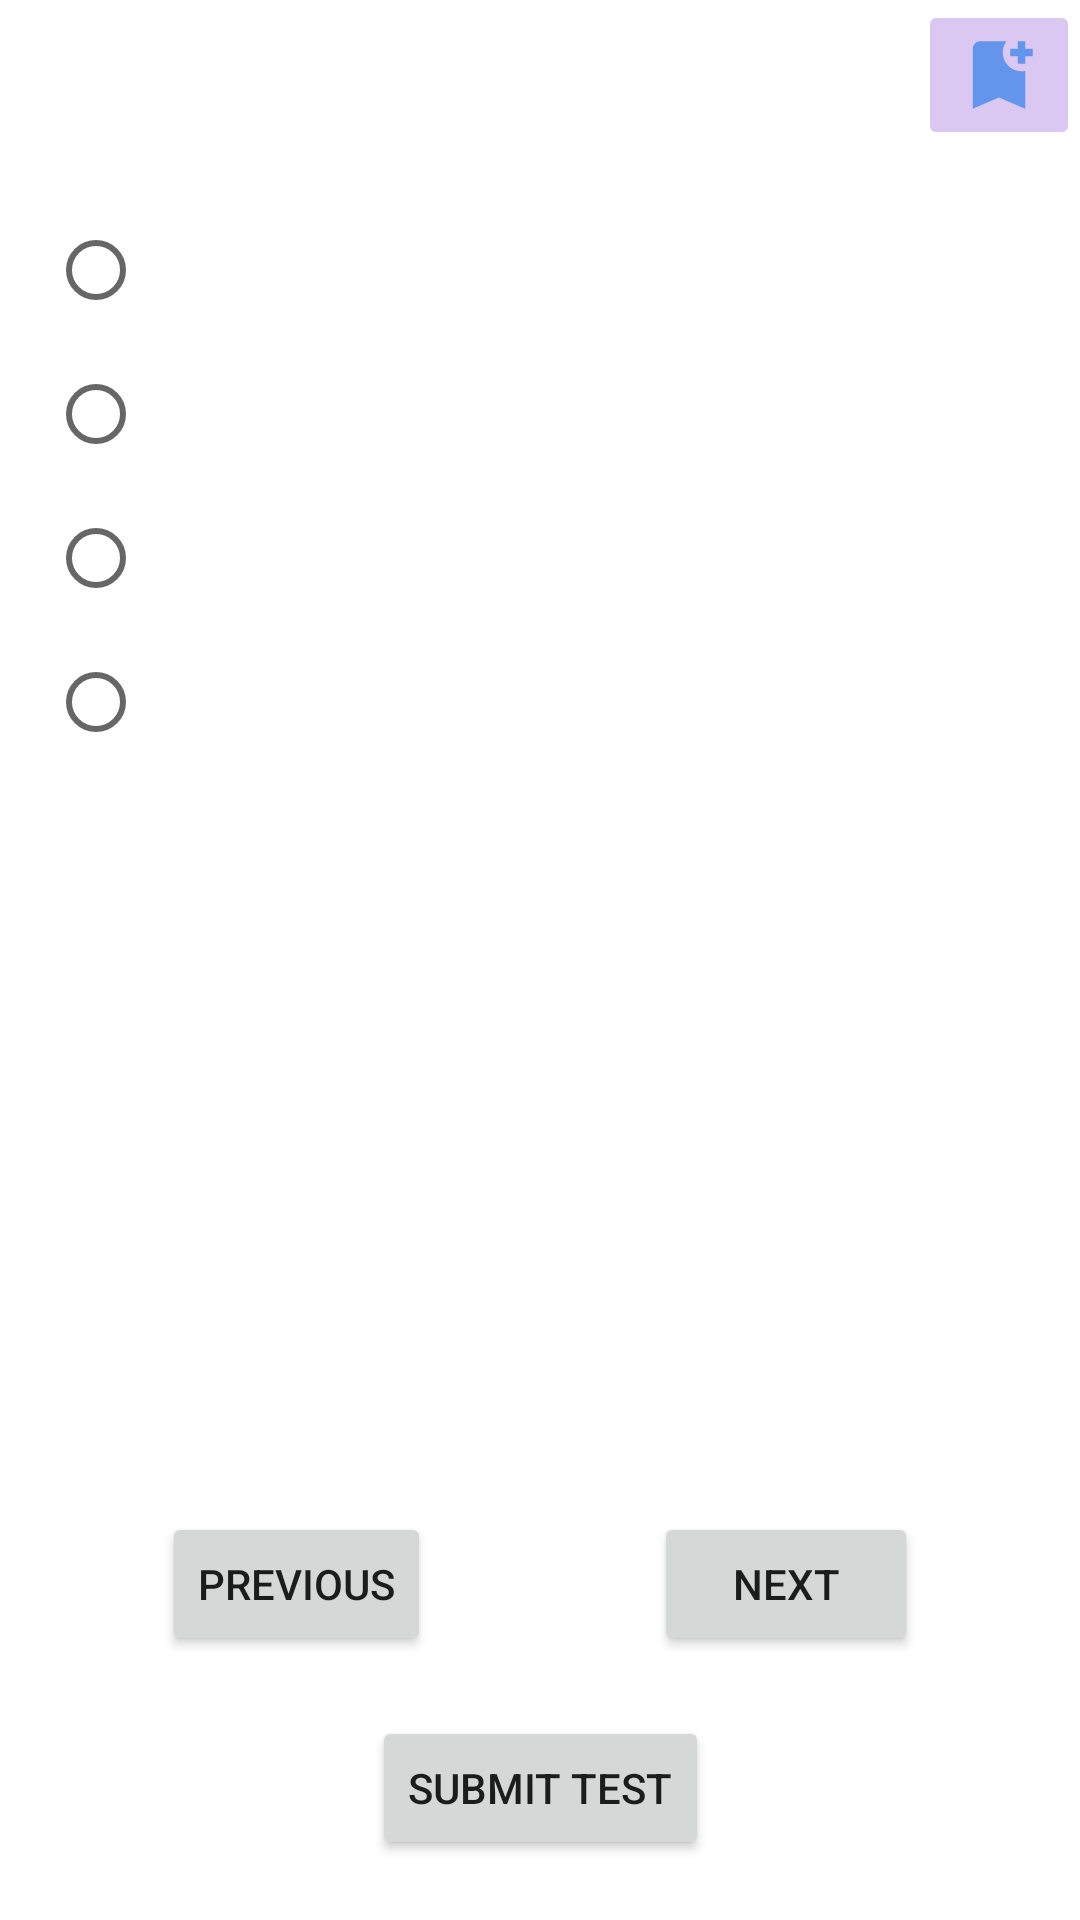

Locate icon controls on the screen. Image size 1080 × 1920, boxes as (x1, y1, x2, y2).
Add/Remove Bookmark: (930, 18, 1068, 132)
